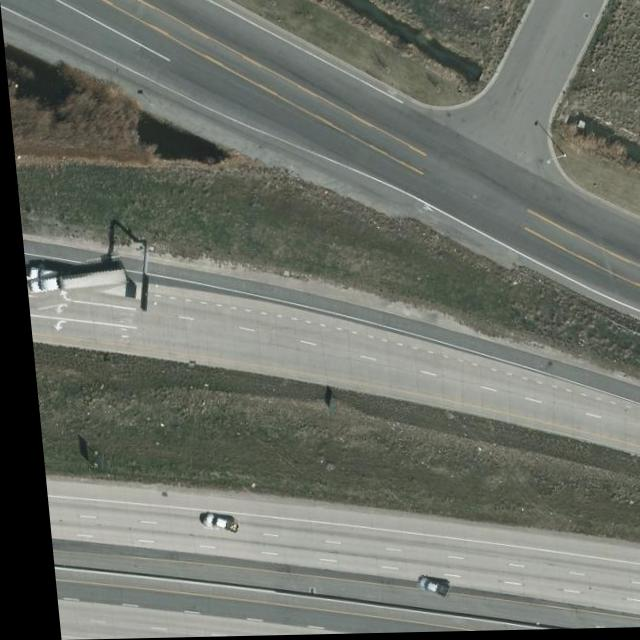vehicle: (20, 257, 124, 307), (404, 578, 440, 598), (192, 514, 229, 533)
